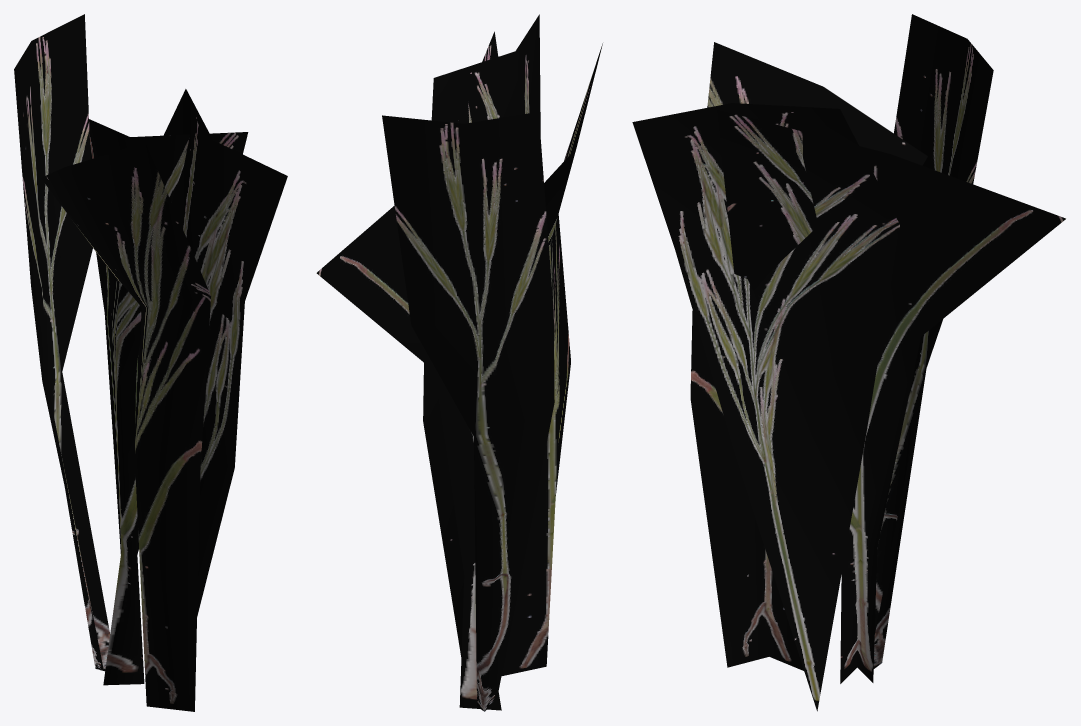
File: SM_grass_1.fbx
3 renders of one model, left to right at view 1: azimuth 30°, elevation 25°; view 2: azimuth 150°, elevation 25°; view 3: azimuth 270°, elevation 25°, orthographic. The views are drawn at different scales.
Visible parts, largest first — view 1: SM_grass_1_LOD0; view 2: SM_grass_1_LOD0; view 3: SM_grass_1_LOD0.
Part boxes in pixels (bbox=[...]): SM_grass_1_LOD0: bbox=[14, 14, 287, 711]; SM_grass_1_LOD0: bbox=[316, 14, 602, 711]; SM_grass_1_LOD0: bbox=[632, 14, 1065, 711].
Bounding box in the file's own units: 16.37 × 43.69 × 71.21.
